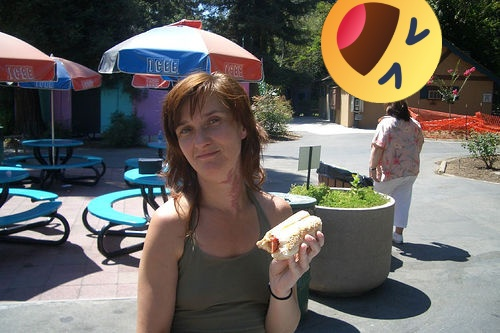haha: (321, 0, 442, 103)
